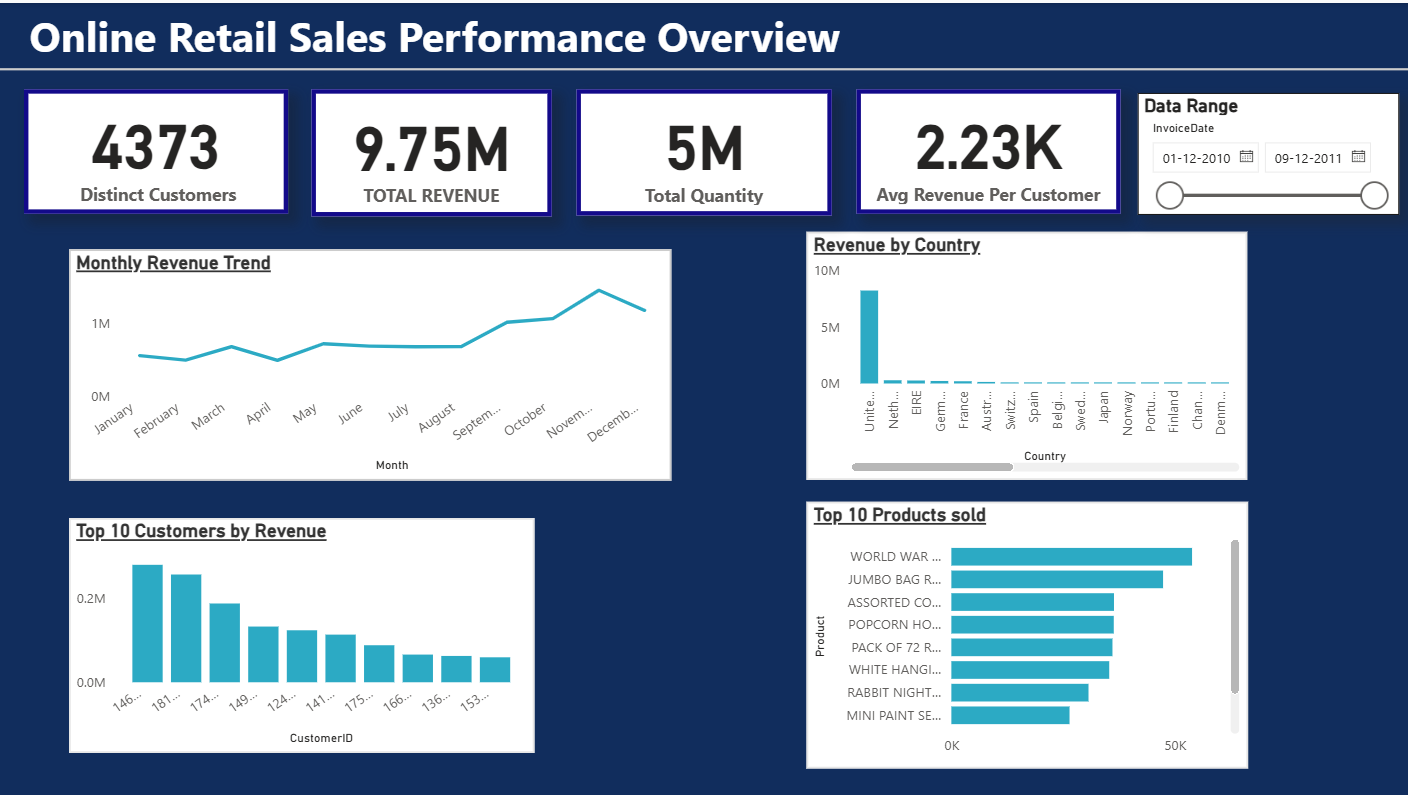

The dashboard page shown, as its layout file describes it:
{"tool":"powerbi","page":{"name":"Page 1","canvas":[1280,720],"ordinal":0},"visuals":[{"type":"lineChart","title":"Monthly Revenue Trend","fields":{"Category":["Online Retail.InvoiceDate.Variation.Date Hierarchy.Month"],"Y":["Online Retail.TOTAL_REVENUE"]},"box":[63.4,223,545.7,209.4],"z":0},{"type":"columnChart","title":"Revenue by Country","fields":{"Category":["Online Retail.Country"],"Y":["Online Retail.TOTAL_REVENUE"]},"box":[731.6,207.4,399.6,224.8],"z":1000},{"type":"card","fields":{"Values":["Count(Online Retail.CustomerID)"]},"box":[22.8,77.9,239.1,112.8],"z":2000},{"type":"card","fields":{"Values":["Online Retail.TOTAL_REVENUE"]},"box":[283.5,77.9,217.6,115.5],"z":3000},{"type":"card","fields":{"Values":["Online Retail.Total Quantity"]},"box":[522.6,77.9,231.1,114.2],"z":4000},{"type":"barChart","title":"Top 10 Products sold","fields":{"Category":["Online Retail.Description"],"Y":["Online Retail.Total Quantity"]},"box":[731.7,451.7,399.7,241.6],"z":5000},{"type":"card","fields":{"Values":["Online Retail.Avg Revenue Per Customer"]},"box":[776.5,77.9,239.1,112.8],"z":6000},{"type":"clusteredColumnChart","title":"Top 10 Customers by Revenue","fields":{"Y":["Online Retail.TOTAL_REVENUE"],"Category":["Online Retail.CustomerID"]},"box":[62.9,466,421.7,213.2],"z":7000},{"type":"slicer","title":"Data Range","fields":{"Values":["Online Retail.InvoiceDate"]},"box":[1031.7,81.9,236.4,110.2],"z":8000},{"type":"textbox","box":[22.8,0,789.9,76.6],"z":9000},{"type":"shape","box":[0,19.8,1280.2,81.5],"z":11000}]}

Visuals, with their boxes in screenshot pixels (x1, y1, x2, y2), scaled from the page's 1280x720 canvas onto the 1408x795 screenshot:
"Monthly Revenue Trend" lineChart: bbox(70, 246, 670, 477)
"Revenue by Country" columnChart: bbox(805, 229, 1244, 477)
card - Count(Online Retail.CustomerID): bbox(25, 86, 288, 211)
card - Online Retail.TOTAL_REVENUE: bbox(312, 86, 551, 214)
card - Online Retail.Total Quantity: bbox(575, 86, 829, 212)
"Top 10 Products sold" barChart: bbox(805, 499, 1245, 766)
card - Online Retail.Avg Revenue Per Customer: bbox(854, 86, 1117, 211)
"Top 10 Customers by Revenue" clusteredColumnChart: bbox(69, 515, 533, 750)
"Data Range" slicer: bbox(1135, 90, 1395, 212)
textbox: bbox(25, 0, 894, 85)
shape: bbox(0, 22, 1407, 112)
